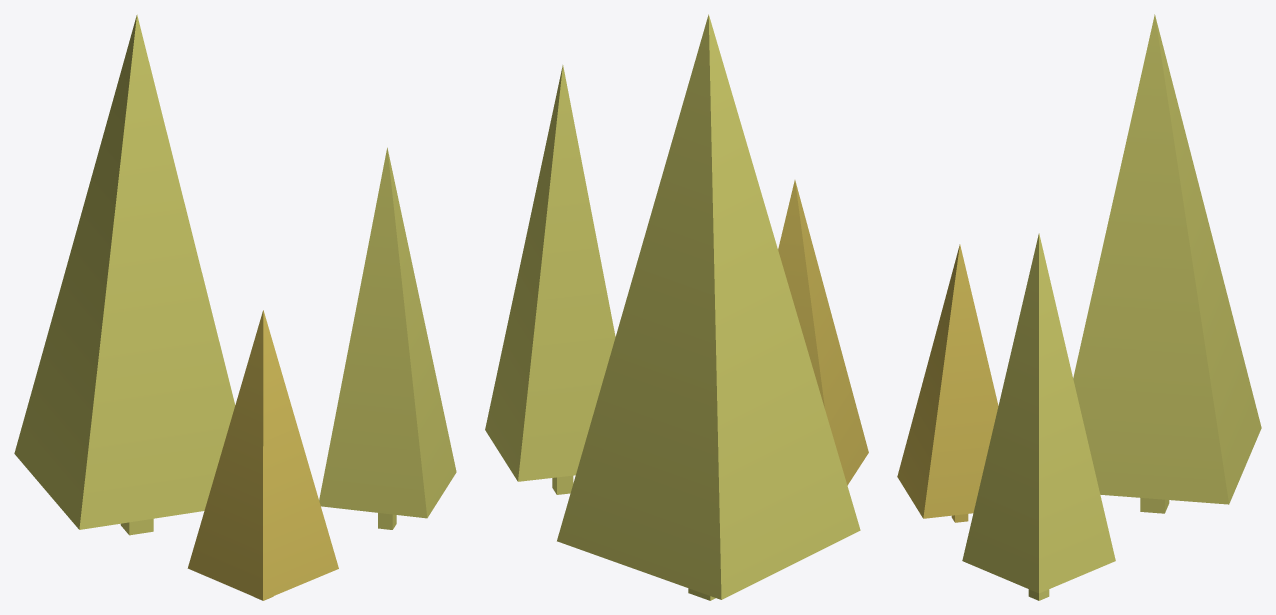
The model's file is Woods-tree1.fbx.
3 views of the same model, side by side, from view 1: azimuth 30°, elevation 25°; view 2: azimuth 150°, elevation 25°; view 3: azimuth 270°, elevation 25° (orthographic). The views are drawn at different scales.
Parts seen in each view (by area): view 1: pPyramid6; view 2: pPyramid6; view 3: pPyramid6.
Part boxes in pixels (bbox=[...]): pPyramid6: bbox=[14, 14, 456, 600]; pPyramid6: bbox=[485, 14, 868, 600]; pPyramid6: bbox=[897, 14, 1261, 600].
Bounding box in the file's own units: 13.71 × 18.95 × 12.68.
